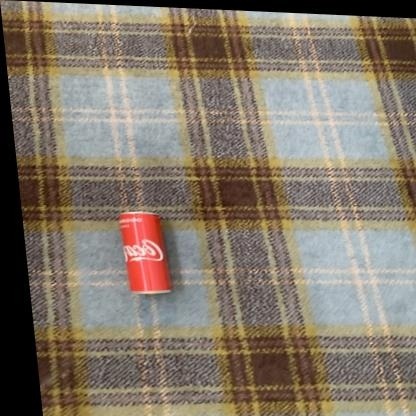trash: (119, 212, 171, 293)
